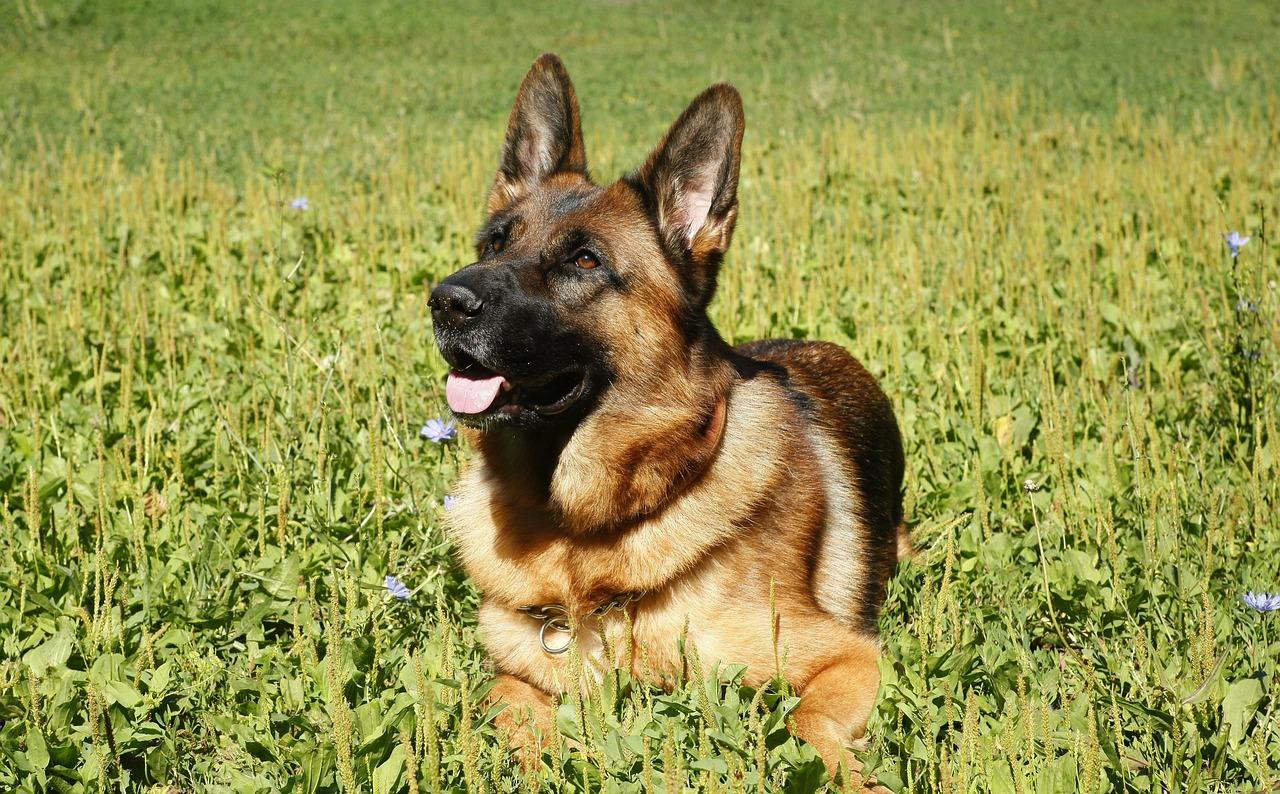german_shepherd: (376, 92, 777, 465)
